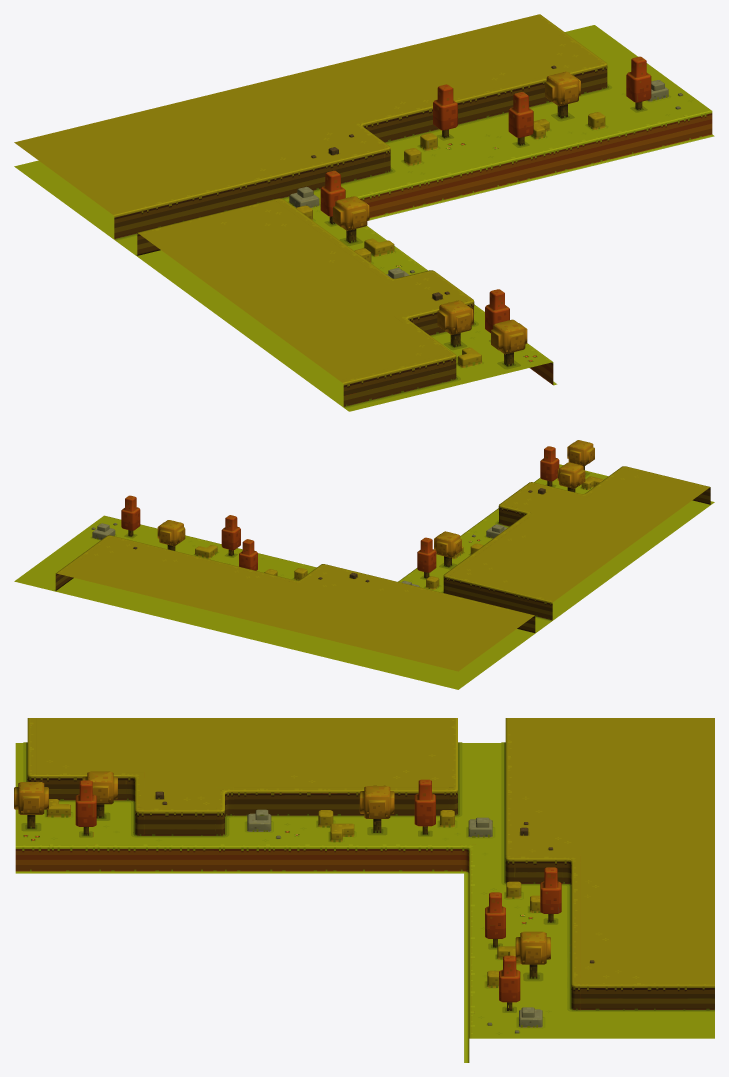
The model's file is C_grass2_out_RD.fbx.
The picture shows the model from 3 angles, top to bottom: view 1: azimuth 30°, elevation 25°; view 2: azimuth 150°, elevation 25°; view 3: azimuth 270°, elevation 25°; orthographic projection. The views are drawn at different scales.
Parts seen in each view (by area): view 1: C_grass2_out_RD; view 2: C_grass2_out_RD; view 3: C_grass2_out_RD.
Part boxes in pixels (box(x1,y1,x2,y2)): C_grass2_out_RD: box(14, 14, 714, 411); C_grass2_out_RD: box(14, 440, 714, 689); C_grass2_out_RD: box(14, 718, 714, 1062).
Bounding box in the file's own units: 117 × 14.32 × 117.
1 material, 1 textured.
